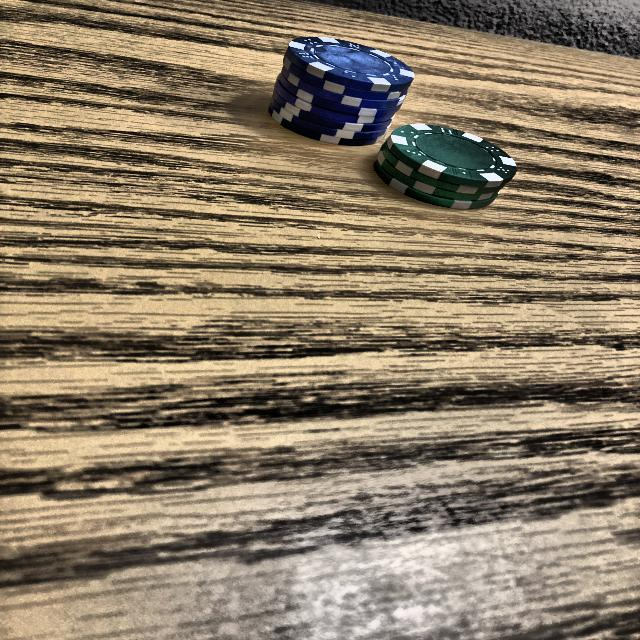Chip: (257, 28, 423, 152), (370, 111, 515, 221)
